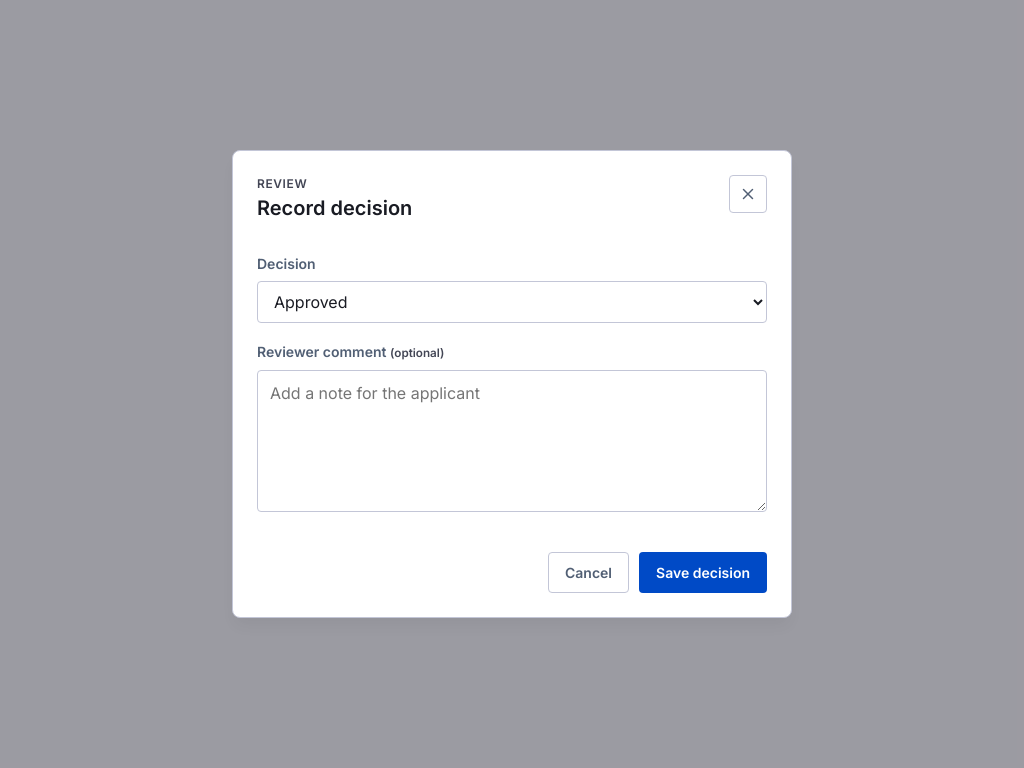
Test: ReviewDecisionModal › blocks rejected decisions without a reviewer comment
Step 1. Select "Rejected" in the dropdown labelled "Decision" → (512, 302), box top-left (257, 281), bottom-right (767, 323)
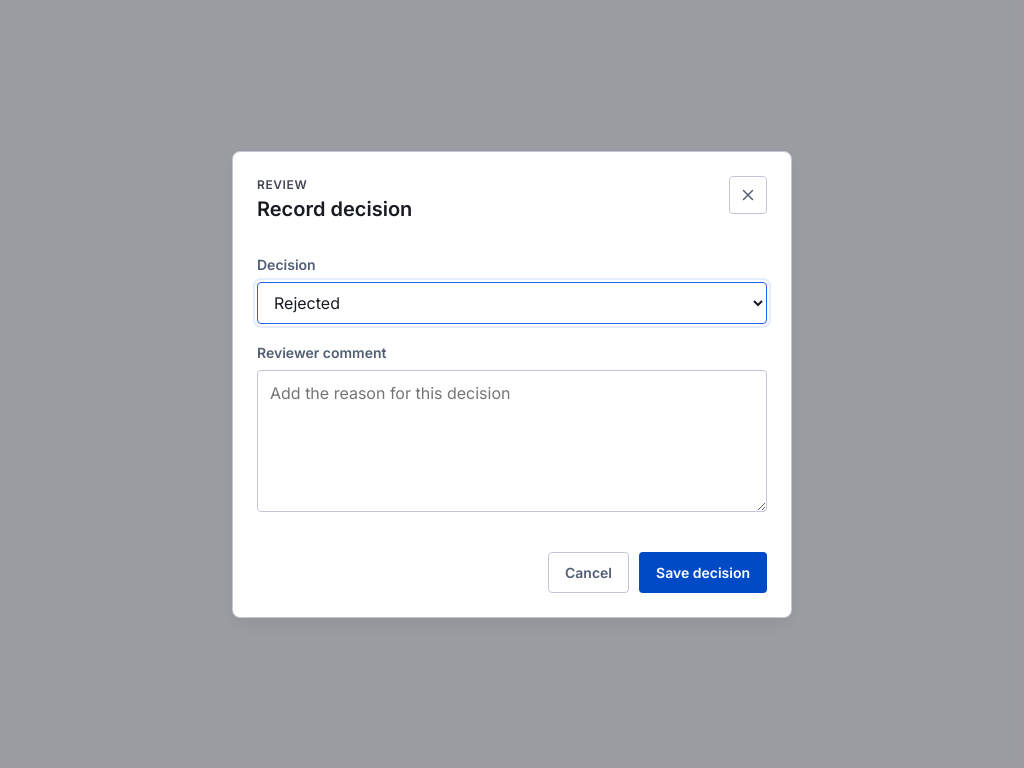
Step 2. Click the button "Save decision" → (703, 572), box top-left (639, 552), bottom-right (767, 592)
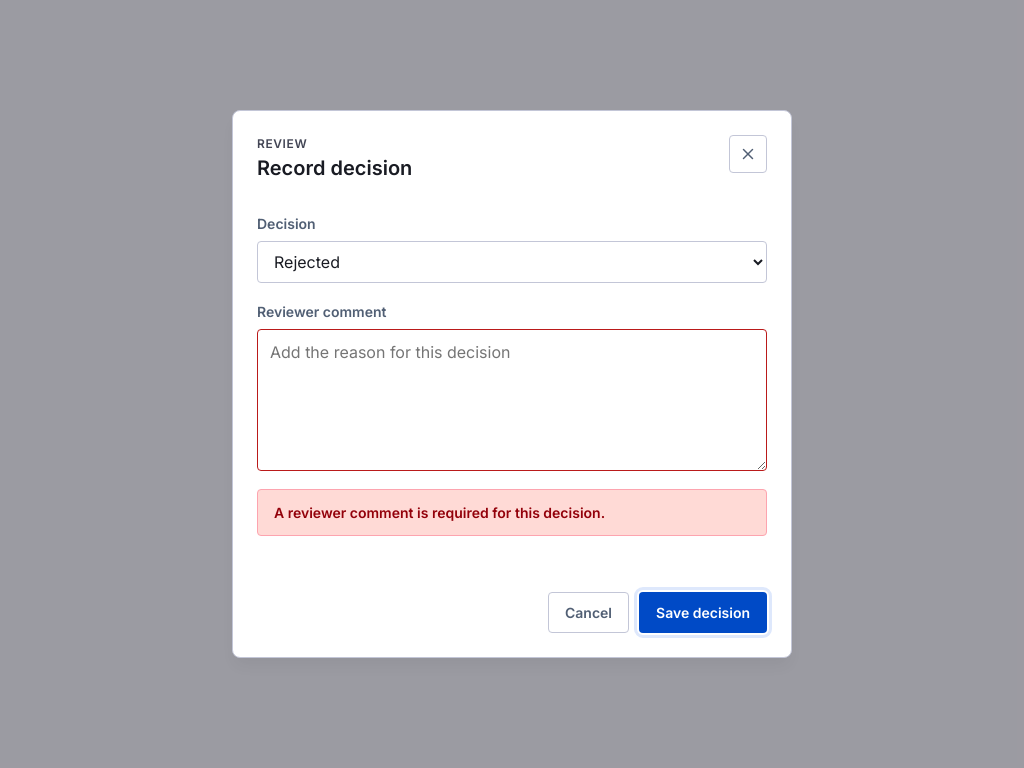
Result: the message shows "A reviewer comment is required" at top-left (274, 504), bottom-right (605, 521)
